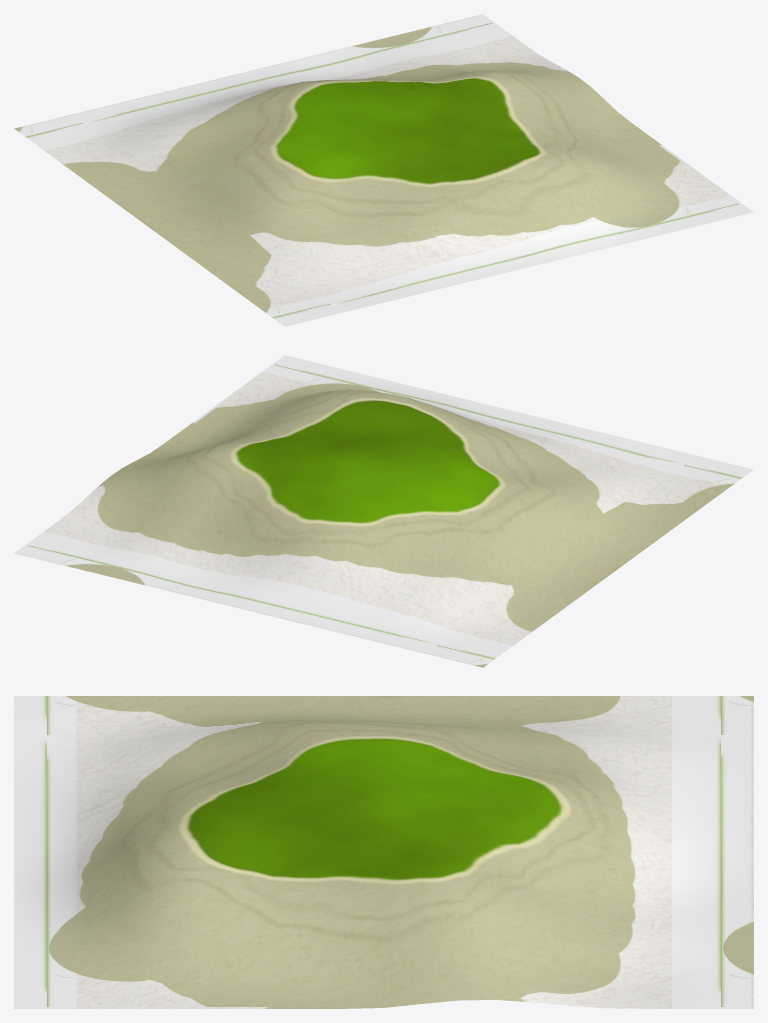
Rendered from SmallIsland.fbx.
3 renders of one model, top to bottom at view 1: azimuth 30°, elevation 25°; view 2: azimuth 150°, elevation 25°; view 3: azimuth 270°, elevation 25°, orthographic. The views are drawn at different scales.
Visible parts, largest first — view 1: pPlane2; view 2: pPlane2; view 3: pPlane2.
Part boxes in pixels (x1,y1,x2,y2): pPlane2: (14, 14, 753, 326); pPlane2: (14, 355, 753, 667); pPlane2: (14, 696, 753, 1008).
Bounding box in the file's own units: 24.25 × 2.4 × 24.25.
